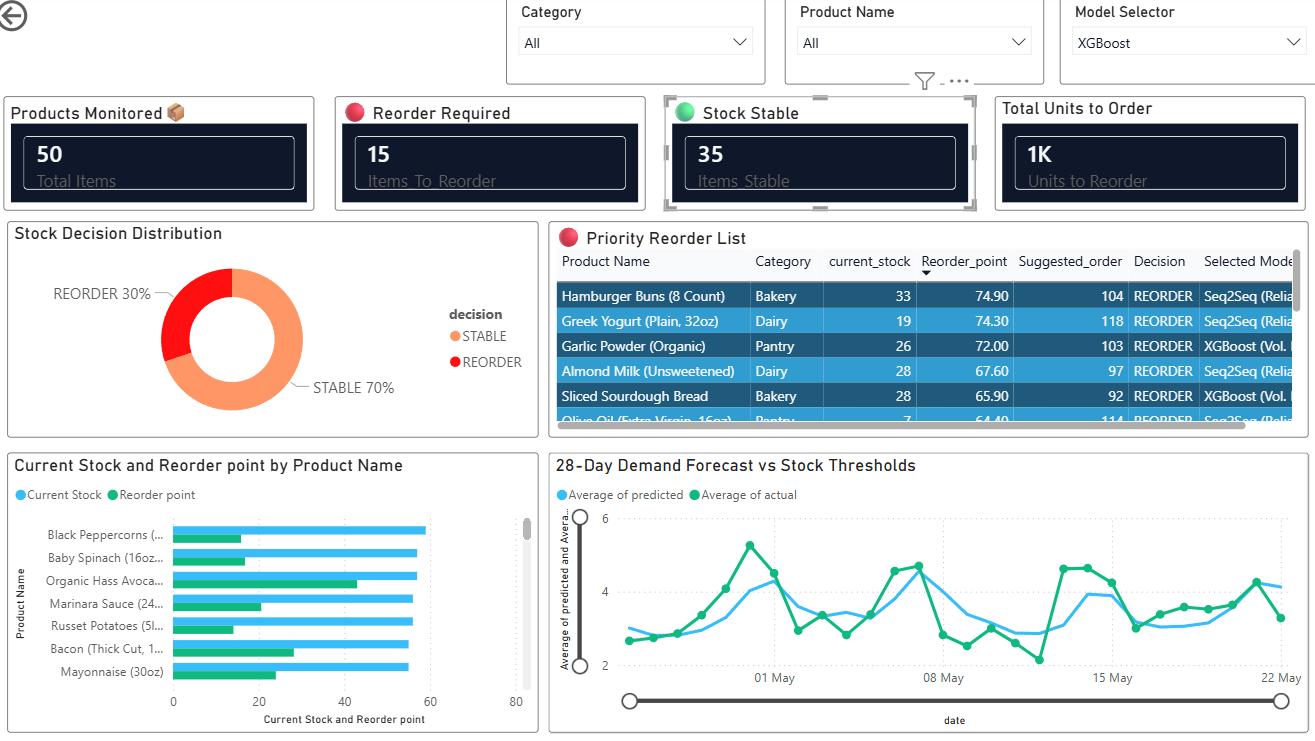

The dashboard page shown, as its layout file describes it:
{"tool":"powerbi","page":{"name":"Inventory Planning","canvas":[1280,720],"ordinal":3},"visuals":[{"type":"cardVisual","title":"Products Monitored📦","fields":{"Data":["Measuers.Total Items"]},"box":[12.5,97.5,300,110],"z":0},{"type":"cardVisual","title":"🔴 Reorder Required","fields":{"Data":["Measuers.Items_To_Reorder"]},"box":[331.2,97.5,300,110],"z":1000},{"type":"cardVisual","title":"🟢 Stock Stable","fields":{"Data":["Measuers.Items_Stable"]},"box":[650,97.5,300,110],"z":2000},{"type":"cardVisual","title":"Total Units to Order","fields":{"Data":["Measuers.Units to Reorder"]},"box":[968.8,97.5,300,110],"z":3000},{"type":"donutChart","title":"Stock Decision Distribution","fields":{"Category":["hybrid_inventory_action_report.decision"],"Y":["Measuers.Decision_measure"]},"box":[16.2,218.8,512.5,208.8],"z":4000},{"type":"tableEx","title":"🔴 Priority Reorder List","fields":{"Values":["product_mapping.Product Name","product_mapping.Category","Sum(hybrid_inventory_action_report.current_stock)","Sum(hybrid_inventory_action_report.reorder_point)","Sum(hybrid_inventory_action_report.suggested_order)","hybrid_inventory_action_report.decision","hybrid_inventory_action_report.selected_model"]},"box":[537.5,218.8,733.8,208.8],"z":5000},{"type":"actionButton","box":[0,0,100,40],"z":6000},{"type":"clusteredBarChart","fields":{"Category":["product_mapping.Product Name"],"Y":["Sum(hybrid_inventory_action_report.current_stock)","Sum(hybrid_inventory_action_report.reorder_point)"]},"box":[16.2,441.2,512.5,270],"z":7000},{"type":"lineChart","title":" 28-Day Demand Forecast vs Stock Thresholds","fields":{"Category":["combined_predictions.date"],"Y":["Avg(combined_predictions.predicted)","Avg(combined_predictions.actual)"]},"box":[537.5,441.2,733.8,270],"z":8000},{"type":"slicer","fields":{"Values":["combined_predictions.model"]},"box":[1031.2,0,250,86],"z":9000},{"type":"slicer","fields":{"Values":["product_mapping.Category"]},"box":[497.5,0,250,86.2],"z":10000},{"type":"slicer","fields":{"Values":["product_mapping.Product Name"]},"box":[766.2,0,250,86],"z":11000}]}

Visuals, with their boxes in screenshot pixels (x1, y1, x2, y2), scaled from the page's 1280x720 canvas onto the 1315x741 screenshot:
"Products Monitored📦" cardVisual: BBox(13, 100, 321, 214)
"🔴 Reorder Required" cardVisual: BBox(340, 100, 648, 214)
"🟢 Stock Stable" cardVisual: BBox(668, 100, 976, 214)
"Total Units to Order" cardVisual: BBox(995, 100, 1303, 214)
"Stock Decision Distribution" donutChart: BBox(17, 225, 543, 440)
"🔴 Priority Reorder List" tableEx: BBox(552, 225, 1306, 440)
actionButton: BBox(0, 0, 103, 41)
clusteredBarChart - product_mapping.Product Name x Sum(hybrid_inventory_action_report.current_stock): BBox(17, 454, 543, 732)
" 28-Day Demand Forecast vs Stock Thresholds" lineChart: BBox(552, 454, 1306, 732)
slicer - combined_predictions.model: BBox(1059, 0, 1314, 89)
slicer - product_mapping.Category: BBox(511, 0, 768, 89)
slicer - product_mapping.Product Name: BBox(787, 0, 1044, 89)
